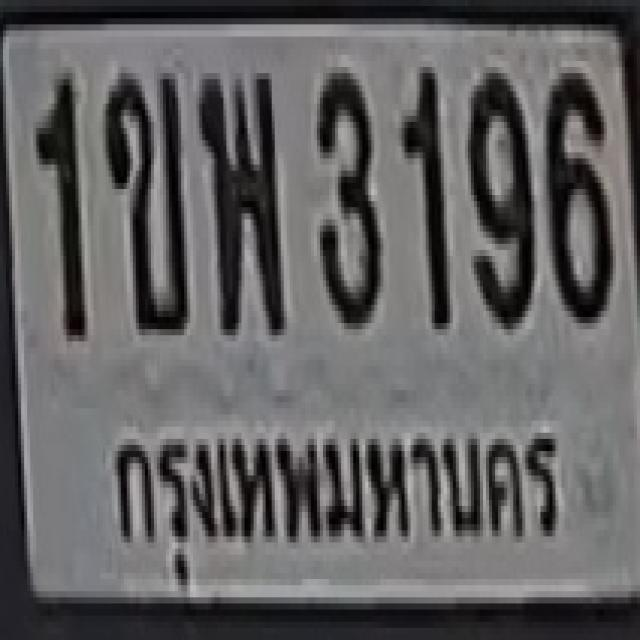1: (32, 67, 80, 335), (398, 61, 444, 323)
3: (314, 67, 377, 323)
6: (543, 67, 610, 317)
9: (466, 67, 530, 323)
A02: (103, 67, 184, 329)
A30: (196, 67, 281, 329)
BKK: (105, 389, 562, 590)
